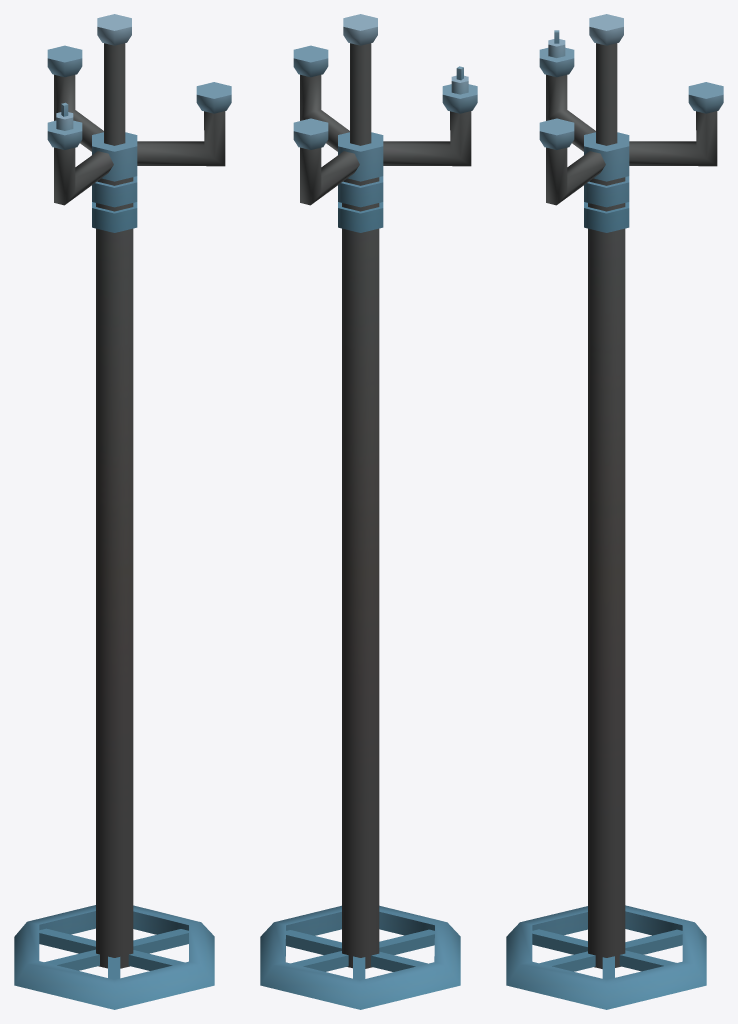
The model's file is Candle_Stand_02.fbx.
3 renders of one model, left to right at view 1: azimuth 30°, elevation 25°; view 2: azimuth 150°, elevation 25°; view 3: azimuth 270°, elevation 25°, orthographic.
Parts seen in each view (by area): view 1: Candle_Stand_02.001; view 2: Candle_Stand_02.001; view 3: Candle_Stand_02.001.
Boxes of the visible parts, left/top/right/bottom form: Candle_Stand_02.001: left=14, top=14, right=231, bottom=1009; Candle_Stand_02.001: left=260, top=14, right=477, bottom=1009; Candle_Stand_02.001: left=506, top=14, right=723, bottom=1009.
Bounding box in the file's own units: 40.76 × 182 × 38.25.
